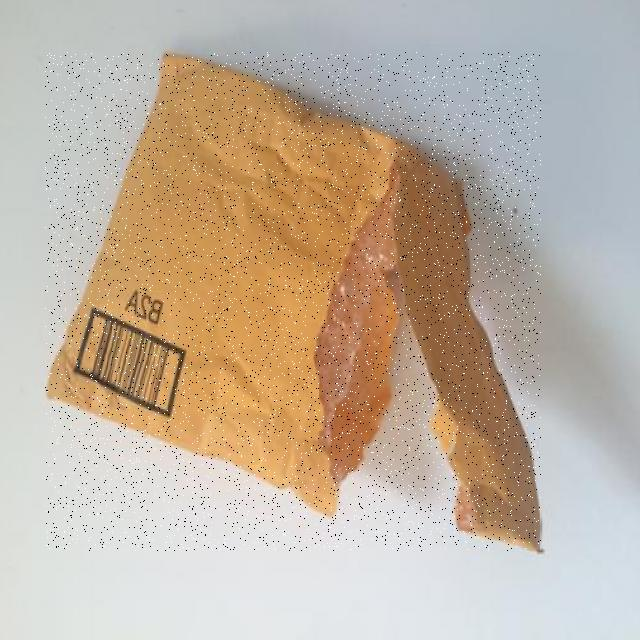paper: (46, 52, 541, 550)
